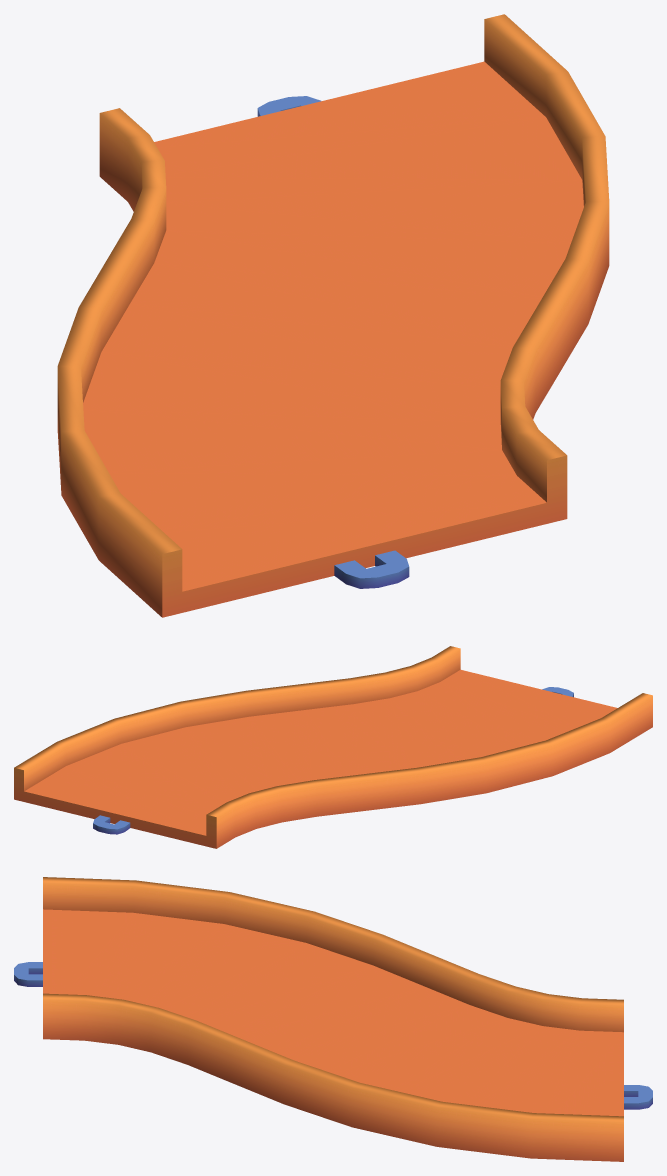
Rendered from track-wide-curve.glb.
3 views of the same model, one above another, from view 1: azimuth 30°, elevation 25°; view 2: azimuth 150°, elevation 25°; view 3: azimuth 270°, elevation 25° (orthographic). The views are drawn at different scales.
Visible parts, largest first — view 1: track-wide-curve; view 2: track-wide-curve; view 3: track-wide-curve.
Part boxes in pixels (x1,y1,x2,y2): track-wide-curve: (57,14,609,617); track-wide-curve: (14,646,652,848); track-wide-curve: (14,877,652,1161).
Bounding box in the file's own units: 4 × 0.3 × 4.4.
1 material, 1 textured.
